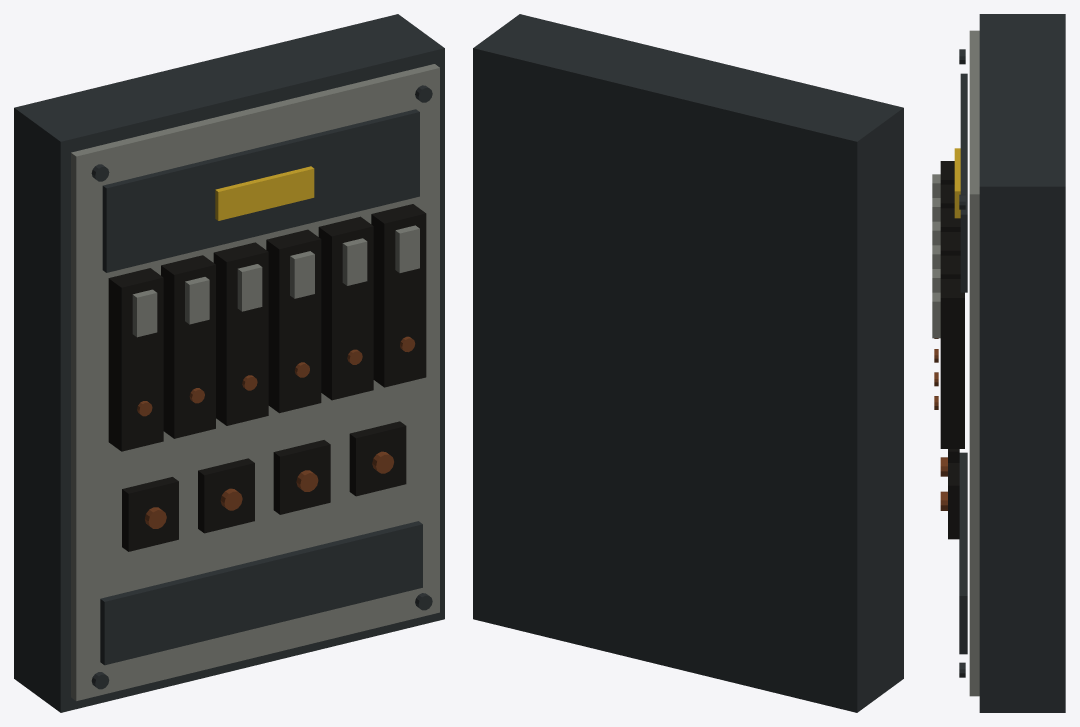
3 views of the same model, side by side, from view 1: azimuth 30°, elevation 25°; view 2: azimuth 150°, elevation 25°; view 3: azimuth 270°, elevation 25° (orthographic). The views are drawn at different scales.
Visible parts, largest first — view 1: BreakerPanel2026; view 2: BreakerPanel2026; view 3: BreakerPanel2026.
Part boxes in pixels (x1=…): BreakerPanel2026: x1=14, y1=14, x2=444, y2=712; BreakerPanel2026: x1=473, y1=14, x2=903, y2=712; BreakerPanel2026: x1=932, y1=14, x2=1065, y2=712.
Size of the model in its own units: 0.76 by 1.08 by 0.248.
